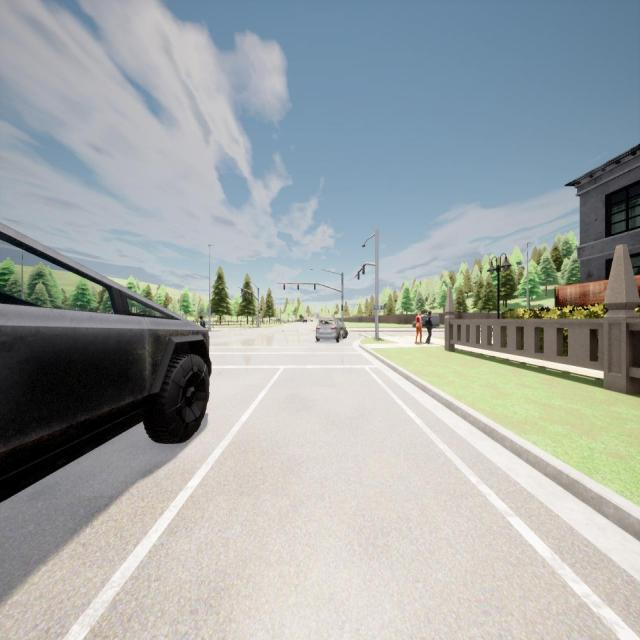Pedestrian: (425, 307, 434, 346), (415, 310, 422, 346), (199, 312, 205, 328)
Traffic_Signs: (373, 306, 382, 310)
Vehicle: (0, 223, 210, 500), (316, 320, 349, 344), (412, 313, 440, 328)
traffic_light: (356, 271, 359, 280), (362, 264, 364, 274), (341, 304, 343, 310), (284, 284, 285, 290), (298, 284, 299, 290), (314, 284, 315, 290)
